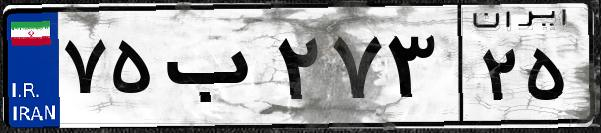2: (270, 28, 330, 110), (475, 38, 525, 113)
3: (385, 28, 445, 110)
5: (525, 38, 570, 115), (110, 28, 158, 98)
7: (330, 28, 385, 110), (57, 26, 110, 100)
ب: (158, 20, 270, 120)
